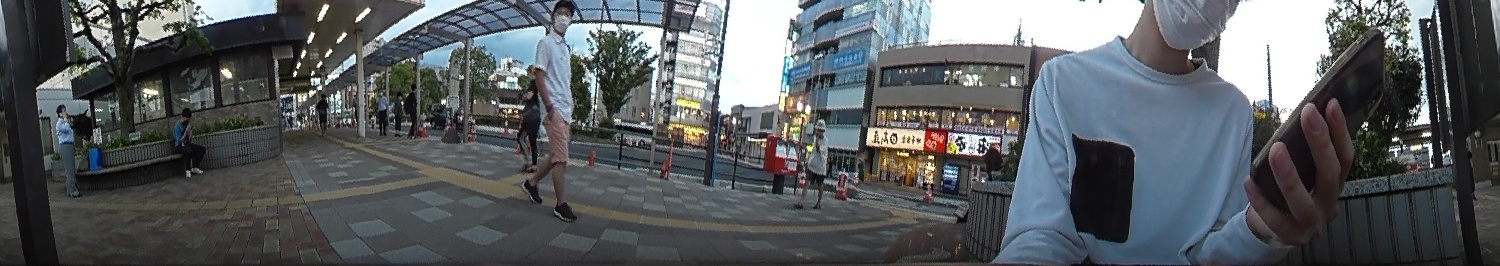difficult_person: (946, 146, 1003, 218), (166, 105, 212, 178), (403, 79, 422, 139), (389, 90, 407, 134), (376, 86, 391, 136), (314, 91, 329, 140)
person: (520, 0, 588, 223), (794, 116, 831, 209), (51, 101, 85, 199), (513, 63, 544, 168)
